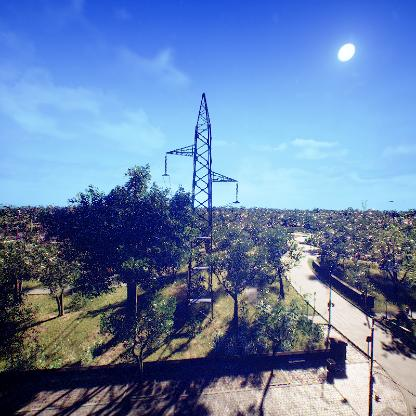tower: (160, 88, 243, 321)
